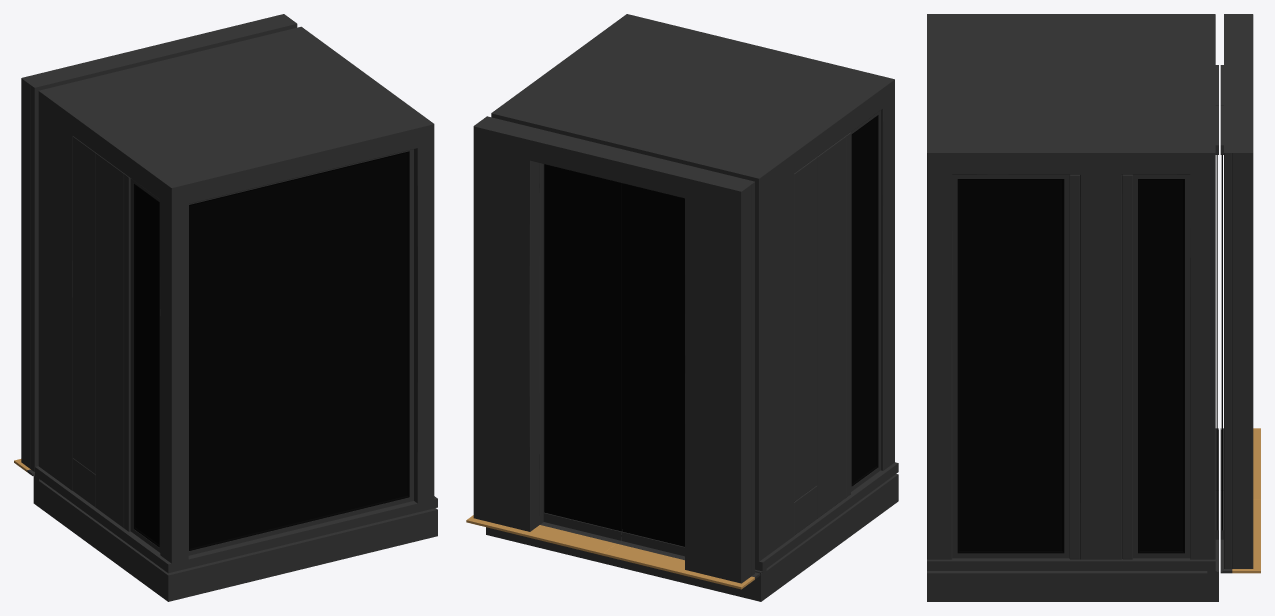
Rendered from Lift.FBX.
3 views of the same model, side by side, from view 1: azimuth 30°, elevation 25°; view 2: azimuth 150°, elevation 25°; view 3: azimuth 270°, elevation 25° (orthographic). The views are drawn at different scales.
Parts seen in each view (by area): view 1: Rectangle111, Box004, Rectangle117, Rectangle108, Box006, Rectangle112, Rectangle110, Line001, Line002, Line003, Line004; view 2: Box006, Box004, Rectangle136, Rectangle138, Rectangle117, Rectangle112, Rectangle108, Floor_Object002, Rectangle110, Line003, Line004, Rectangle137 (+2 smaller); view 3: Box004, Rectangle114, Box006, Rectangle113, Rectangle108, Rectangle117, Line007, Line006, Rectangle110, Line008, Line005, Floor_Object002 (+2 smaller).
Boxes of the visible parts, box(x1,y1,x2,y2) form: Rectangle111: box(189, 152, 407, 548); Box004: box(38, 26, 434, 563); Rectangle117: box(73, 136, 130, 531); Rectangle108: box(33, 477, 437, 601); Box006: box(21, 14, 297, 471); Rectangle112: box(135, 185, 159, 544); Rectangle110: box(35, 466, 437, 573); Line001: box(188, 149, 413, 555); Line002: box(189, 151, 409, 550); Line003: box(130, 178, 160, 552); Line004: box(133, 183, 159, 547); Box006: box(473, 116, 754, 583); Box004: box(491, 14, 894, 561); Rectangle136: box(544, 164, 621, 531); Rectangle138: box(622, 183, 684, 546); Rectangle117: box(794, 132, 850, 535); Rectangle112: box(851, 117, 876, 483); Rectangle108: box(486, 474, 898, 601); Floor_Object002: box(466, 515, 754, 589); Rectangle110: box(543, 462, 898, 571); Line003: box(851, 110, 880, 491); Line004: box(851, 115, 878, 486); Rectangle137: box(543, 512, 622, 540); Box004: box(927, 14, 1215, 559); Rectangle114: box(959, 180, 1062, 550); Box006: box(1224, 14, 1253, 568); Rectangle113: box(1140, 180, 1182, 550); Rectangle108: box(927, 571, 1218, 601); Rectangle117: box(1069, 174, 1132, 559); Line007: box(952, 174, 1069, 558); Line006: box(1133, 174, 1190, 558); Rectangle110: box(927, 558, 1215, 570); Line008: box(957, 179, 1064, 553); Line005: box(1138, 179, 1184, 553); Floor_Object002: box(1232, 428, 1260, 573).
Bounding box in the file's own units: 1601 × 2341 × 1584.
